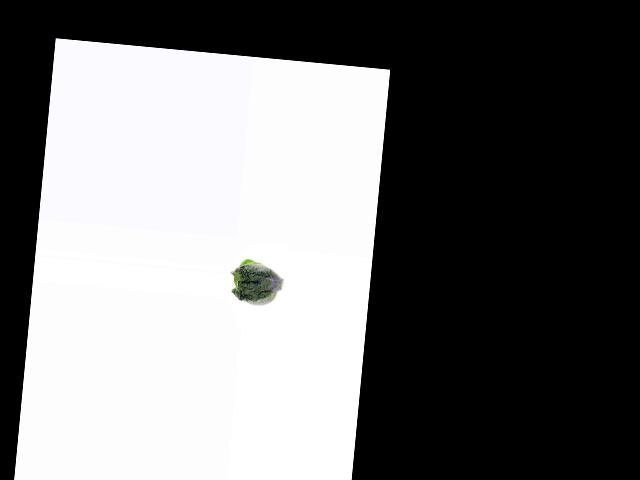lettuce: (229, 255, 285, 309)
